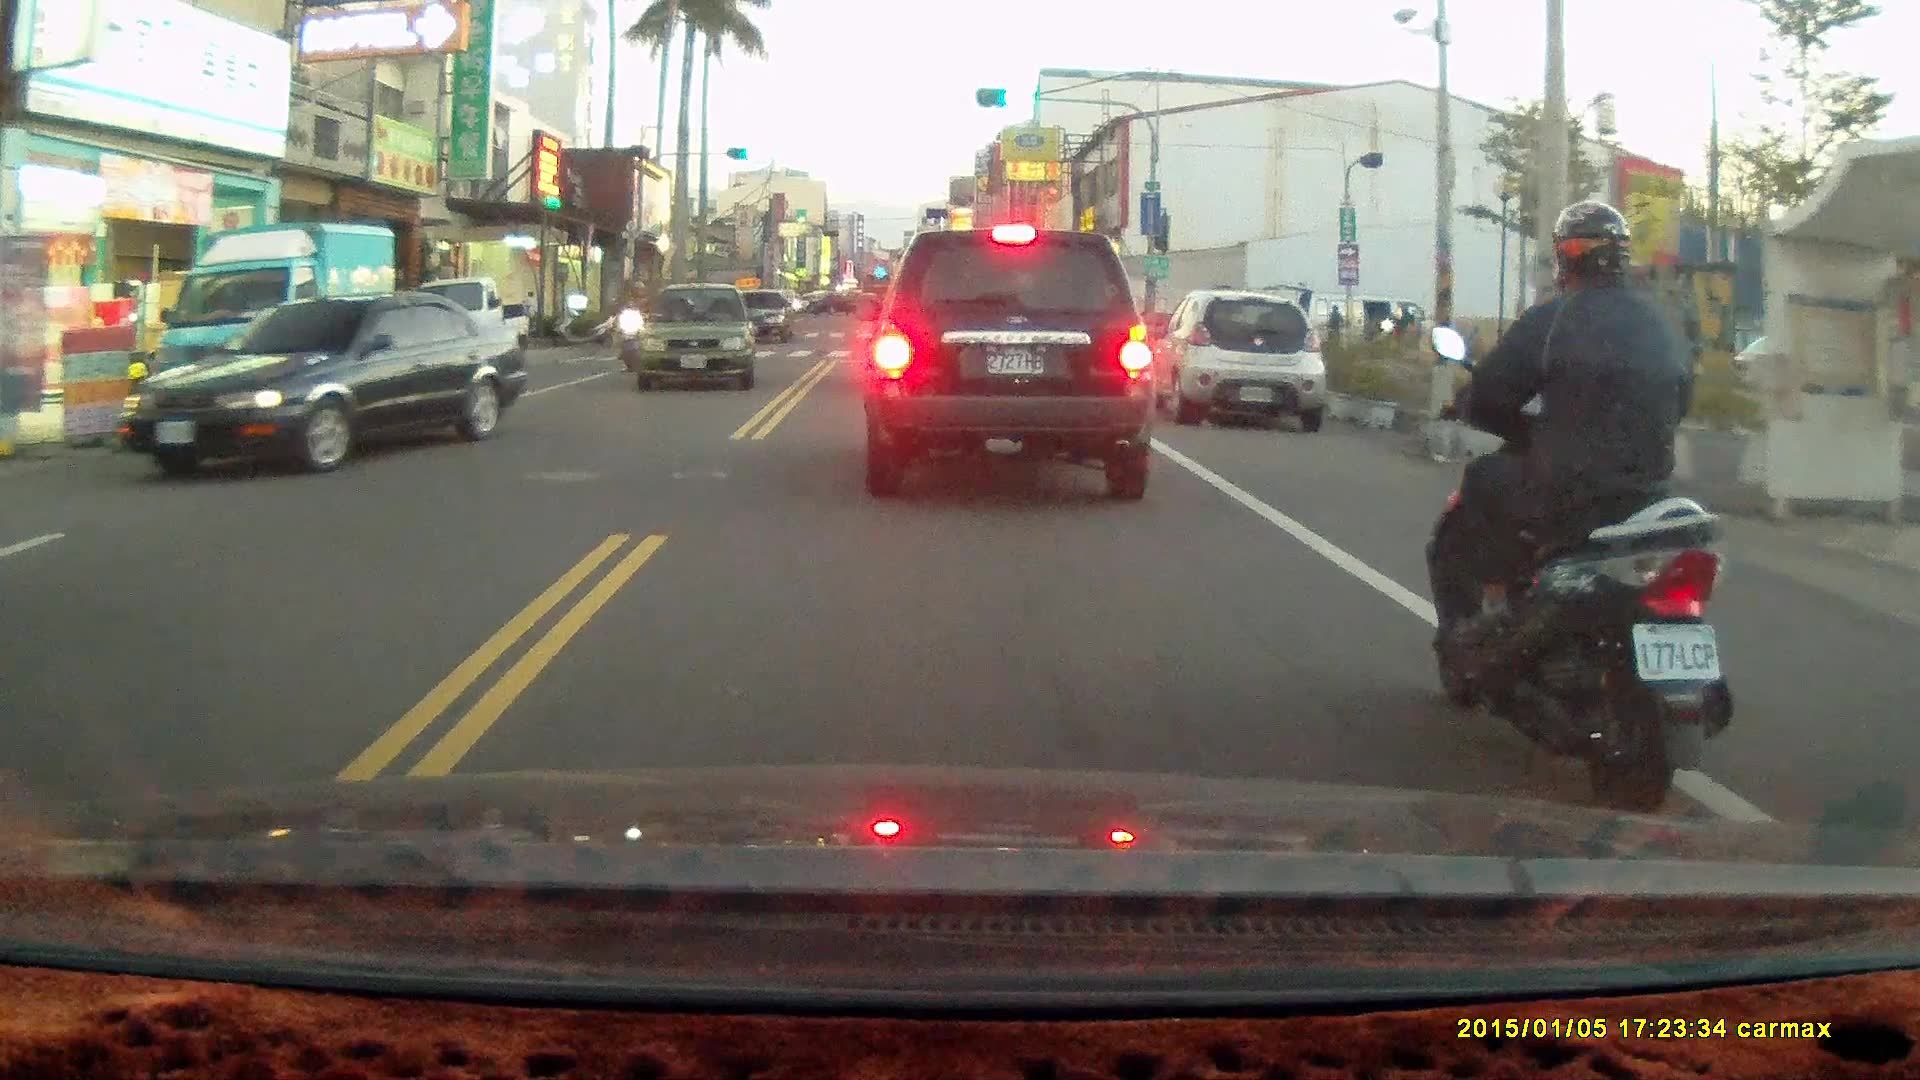rider: (1423, 190, 1734, 815), (611, 279, 657, 373)
vehicle: (860, 224, 1155, 503), (121, 292, 530, 480), (145, 222, 406, 418), (1157, 286, 1328, 433), (633, 279, 759, 396), (405, 273, 534, 383)
